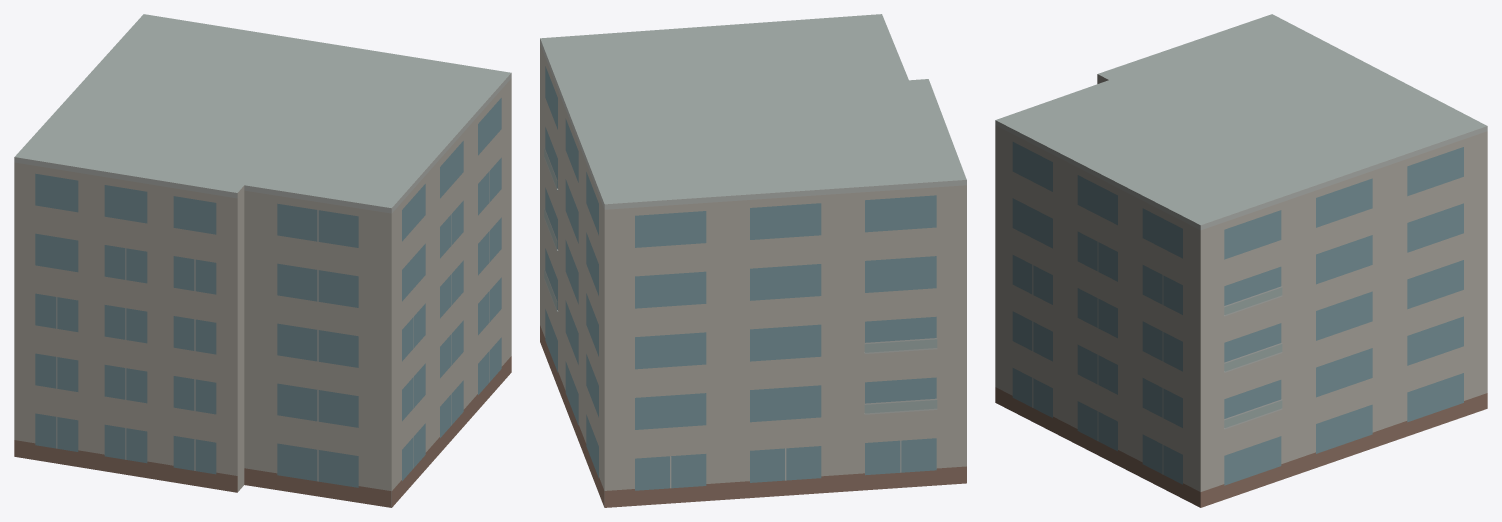
Rendered from survey-upis-32904916.glb.
3 renders of one model, left to right at view 1: azimuth 30°, elevation 25°; view 2: azimuth 150°, elevation 25°; view 3: azimuth 270°, elevation 25°, orthographic. The views are drawn at different scales.
Visible parts, largest first — view 1: survey-upis-32904916.tmp; view 2: survey-upis-32904916.tmp; view 3: survey-upis-32904916.tmp.
Part boxes in pixels (<box>): survey-upis-32904916.tmp: <box>14,14,511,507</box>; survey-upis-32904916.tmp: <box>540,14,966,507</box>; survey-upis-32904916.tmp: <box>995,14,1487,507</box>.
Bounding box in the file's own units: 21.82 × 13.6 × 21.48.
